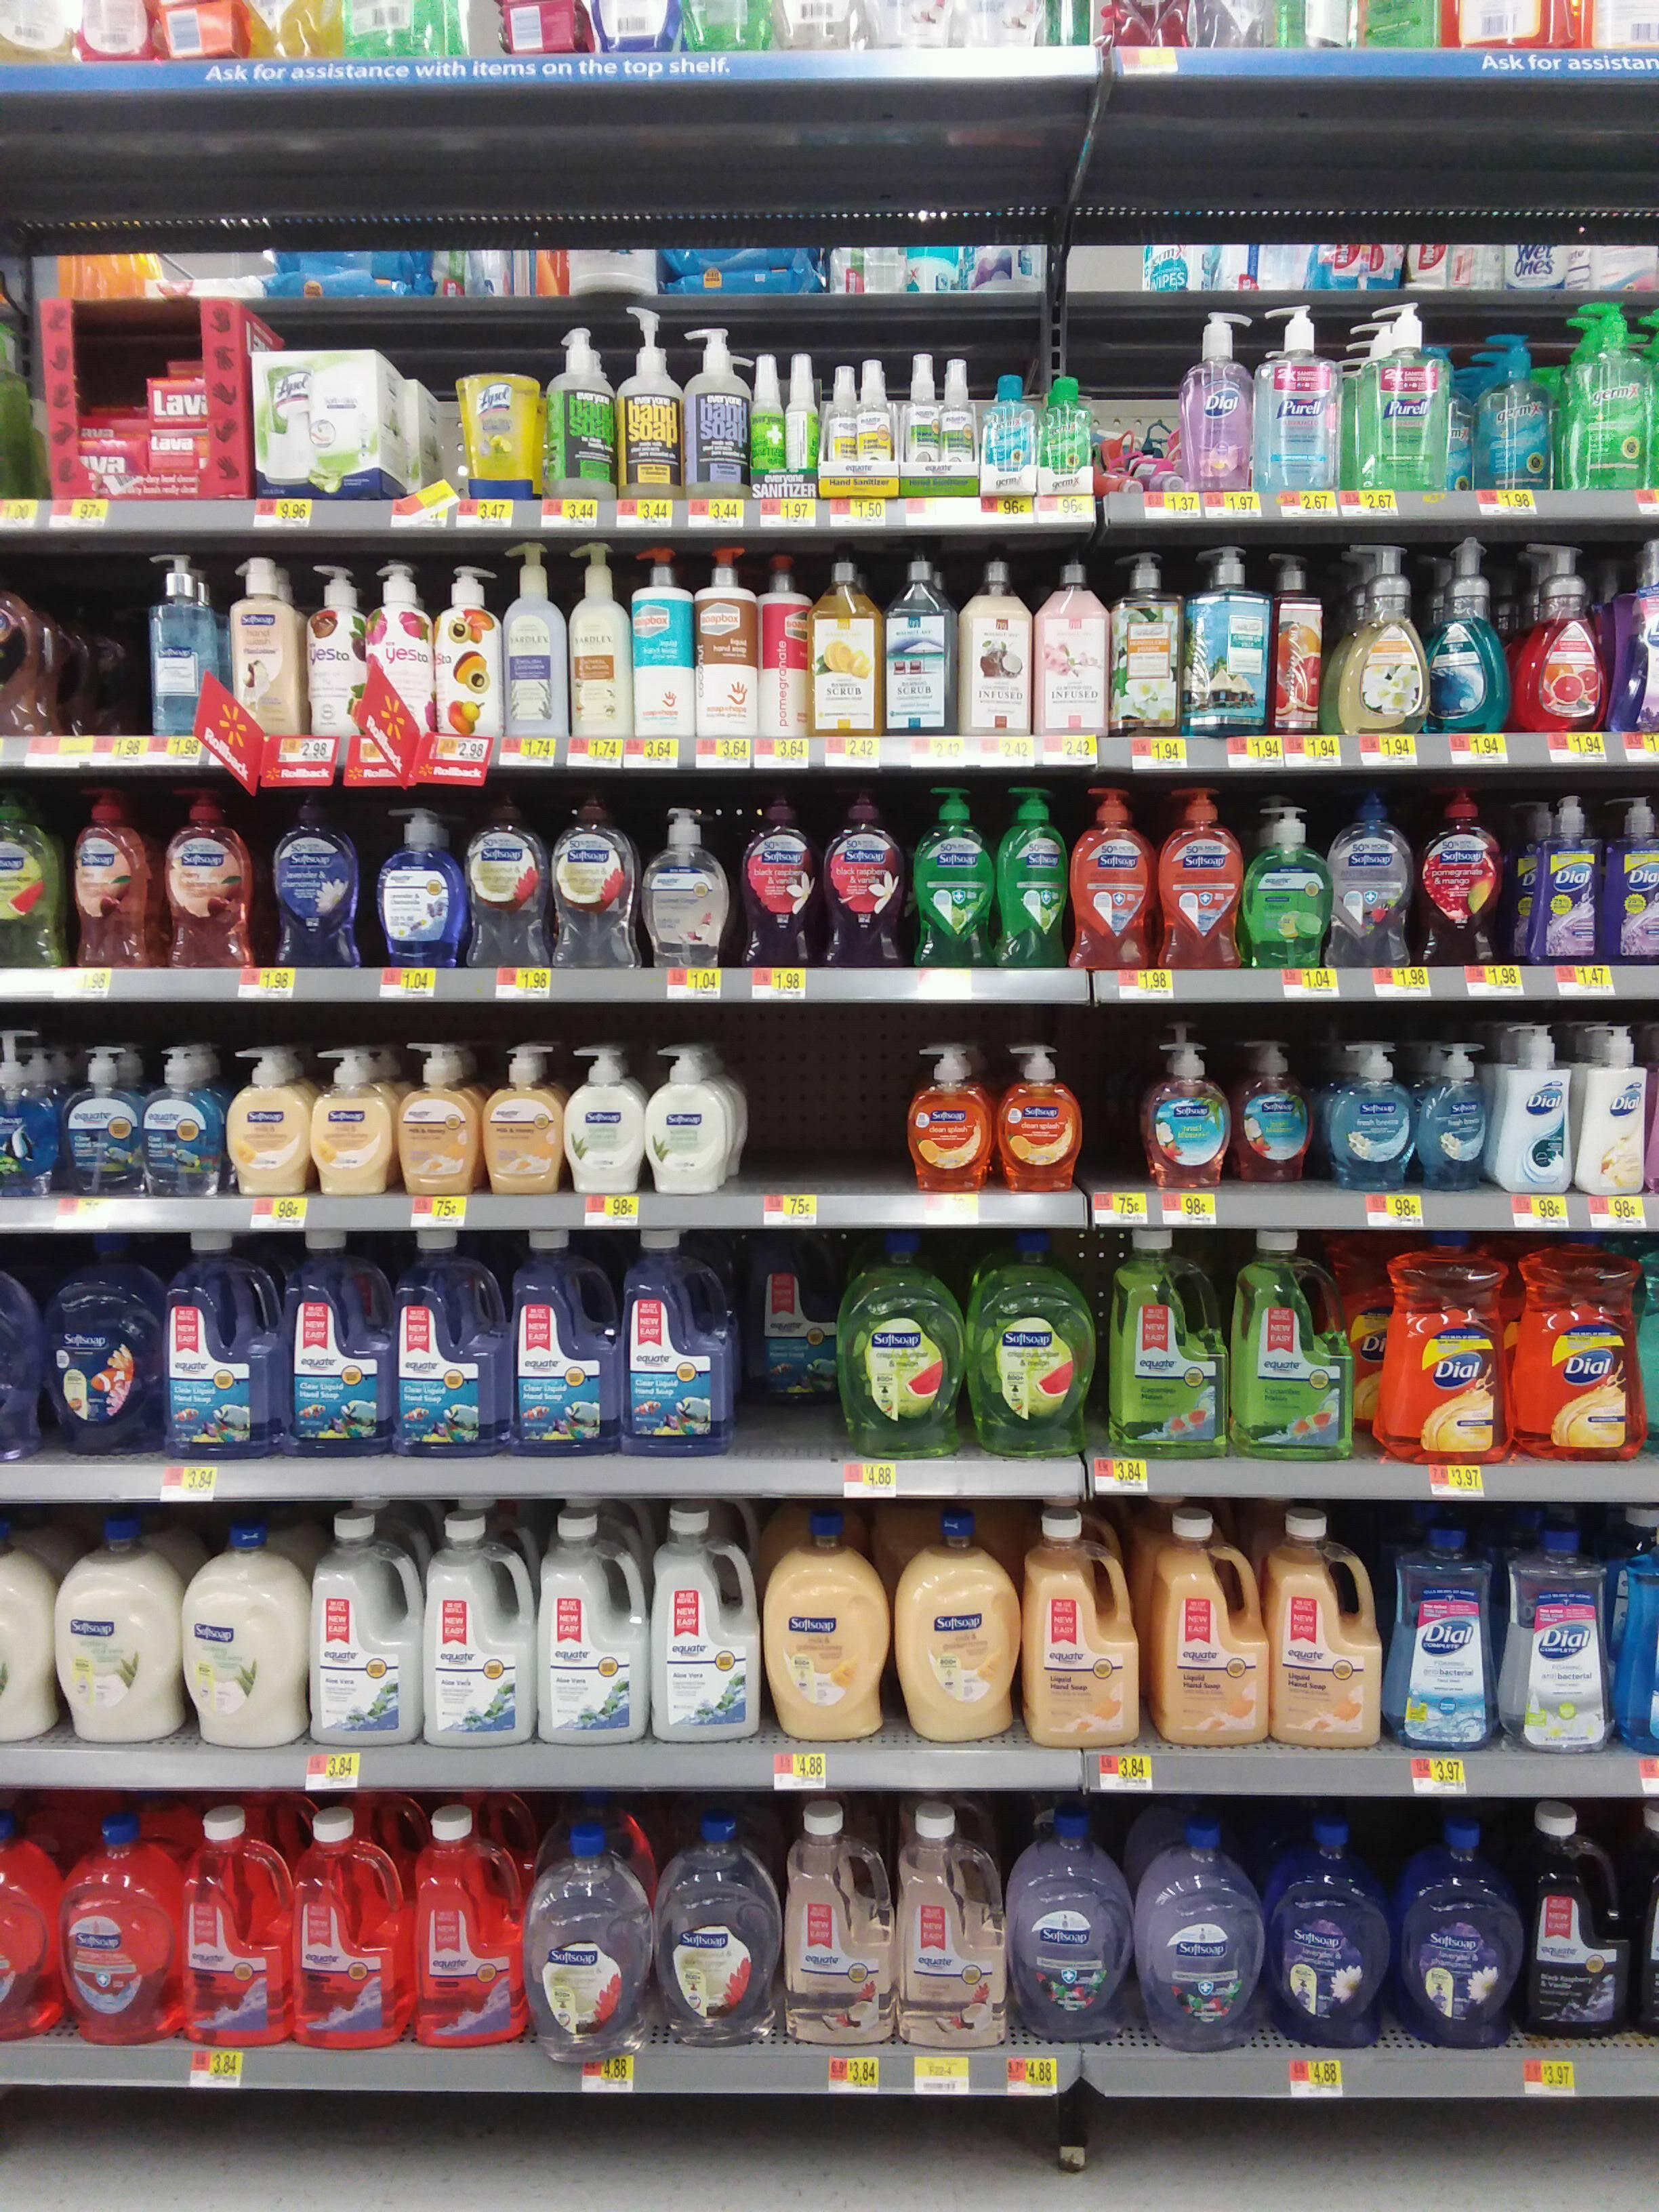empty: (728, 1273, 845, 1456), (35, 604, 146, 733), (821, 1055, 901, 1190), (737, 1055, 817, 1188), (1077, 1057, 1157, 1190)
